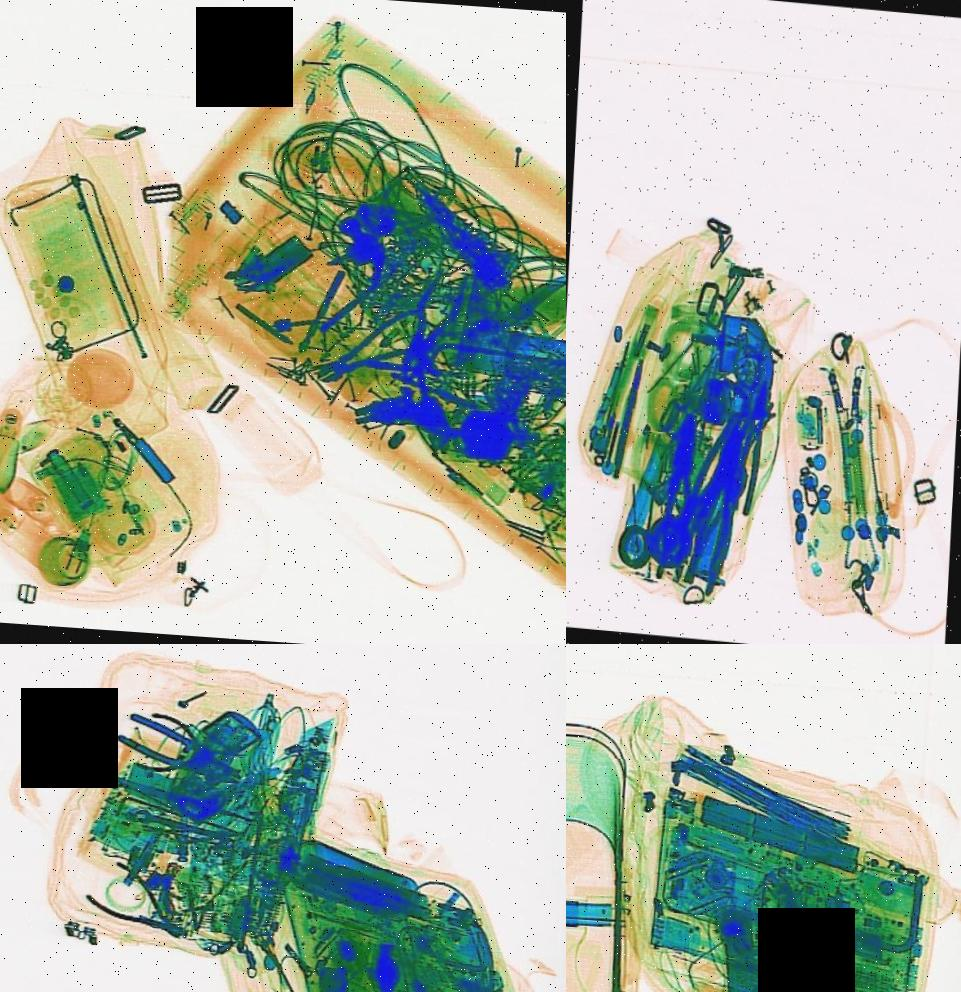Pliers: (298, 294, 451, 398), (83, 844, 197, 962), (113, 700, 251, 794), (680, 448, 760, 604), (134, 702, 238, 802), (393, 262, 478, 375), (656, 410, 703, 585), (724, 374, 780, 518)
Wrench: (136, 802, 228, 842)
